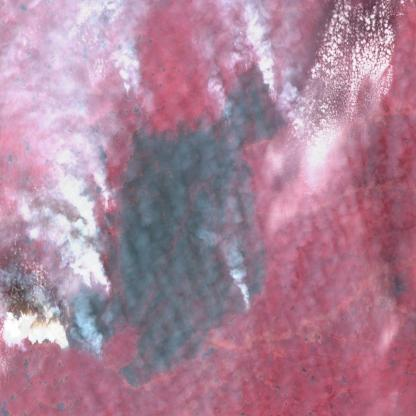fire: (215, 59, 304, 154), (58, 276, 114, 362), (120, 69, 148, 116), (74, 204, 100, 249), (238, 296, 253, 320)
